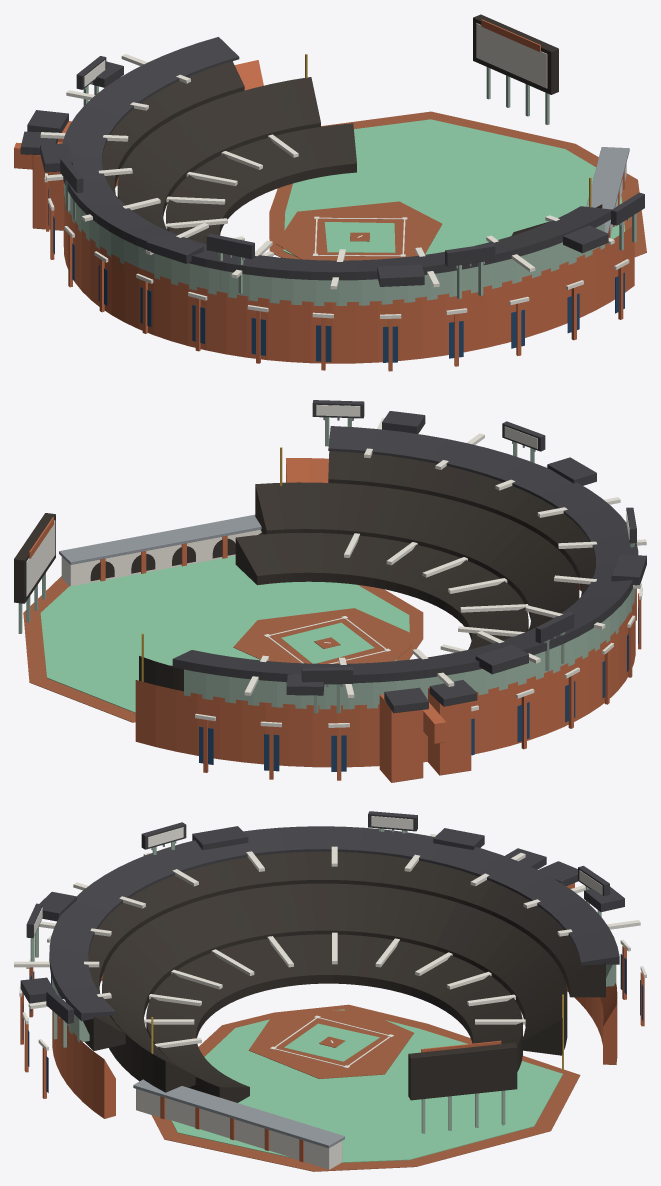
The model's file is oracle-park.glb.
3 renders of one model, top to bottom at view 1: azimuth 30°, elevation 25°; view 2: azimuth 150°, elevation 25°; view 3: azimuth 270°, elevation 25°, orthographic. The views are drawn at different scales.
Visible parts, largest first — view 1: outer_brick_shell, field_grass_top, canopy_ring, club_bowl, upper_green_structure, lower_bowl, infield_dirt, upper_bowl, warning_track, scoreboard_face, infield_grass, arcade_top_walk (+11 smaller); view 2: field_grass_top, outer_brick_shell, club_bowl, canopy_ring, lower_bowl, upper_bowl, upper_green_structure, infield_dirt, warning_track, arcade_top_walk, entry_right_tower, waterfront_arcade (+14 smaller); view 3: club_bowl, field_grass_top, lower_bowl, canopy_ring, upper_bowl, warning_track, infield_dirt, scoreboard_frame, outer_brick_shell, waterfront_arcade, arcade_top_walk, infield_grass (+8 smaller).
Part boxes in pixels (box(x1,y1,x2,y2)): outer_brick_shell: box(63, 60, 634, 363); field_grass_top: box(283, 119, 624, 255); canopy_ring: box(62, 37, 611, 280); club_bowl: box(117, 77, 602, 230); upper_green_structure: box(64, 182, 604, 305); lower_bowl: box(166, 123, 548, 243); infield_dirt: box(276, 201, 442, 260); upper_bowl: box(102, 61, 244, 194); warning_track: box(269, 111, 646, 259); scoreboard_face: box(476, 23, 547, 88); infield_grass: box(324, 222, 395, 252); arcade_top_walk: box(586, 147, 629, 233); field_grass_top: box(40, 556, 409, 712); outer_brick_shell: box(135, 458, 635, 767); club_bowl: box(139, 482, 579, 690); canopy_ring: box(172, 426, 638, 683); lower_bowl: box(170, 533, 528, 666); upper_bowl: box(179, 451, 595, 691); upper_green_structure: box(184, 588, 635, 709); infield_dirt: box(233, 608, 412, 663); warning_track: box(23, 576, 423, 722); arcade_top_walk: box(59, 514, 261, 564); entry_right_tower: box(379, 694, 423, 782); waterfront_arcade: box(61, 529, 261, 586); club_bowl: box(102, 883, 567, 1092); field_grass_top: box(172, 1009, 562, 1162); lower_bowl: box(146, 934, 522, 1102); canopy_ring: box(49, 826, 619, 1021); upper_bowl: box(83, 851, 605, 1050); warning_track: box(151, 1004, 580, 1171); infield_dirt: box(248, 1009, 413, 1078); scoreboard_frame: box(408, 1042, 517, 1100); outer_brick_shell: box(52, 972, 617, 1118); waterfront_arcade: box(136, 1089, 342, 1169); arcade_top_walk: box(133, 1079, 344, 1148); infield_grass: box(284, 1023, 379, 1061).
Size of the model in its own units: 222 by 45 by 230.
